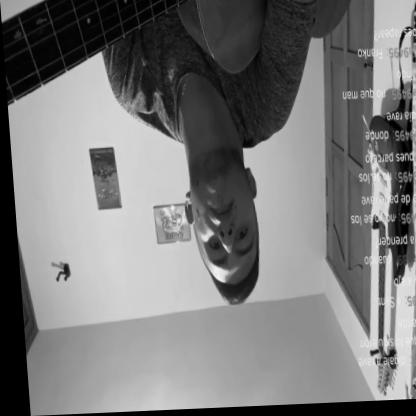streamer: (98, 0, 337, 315)
